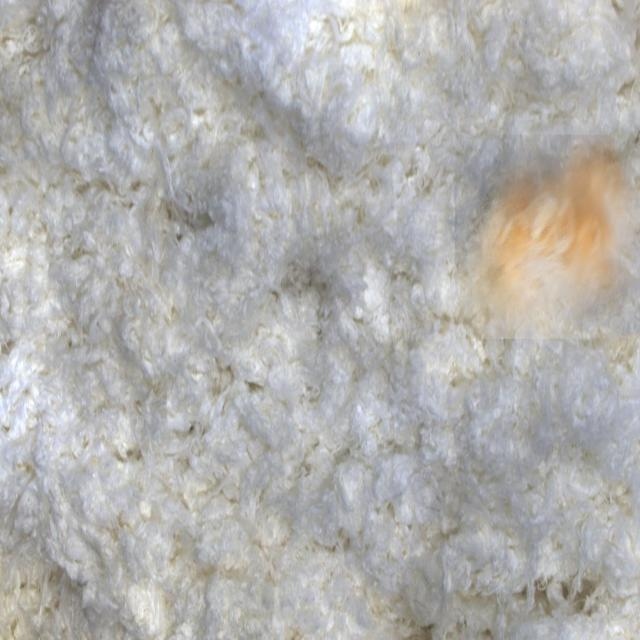dust: (454, 134, 640, 339)
